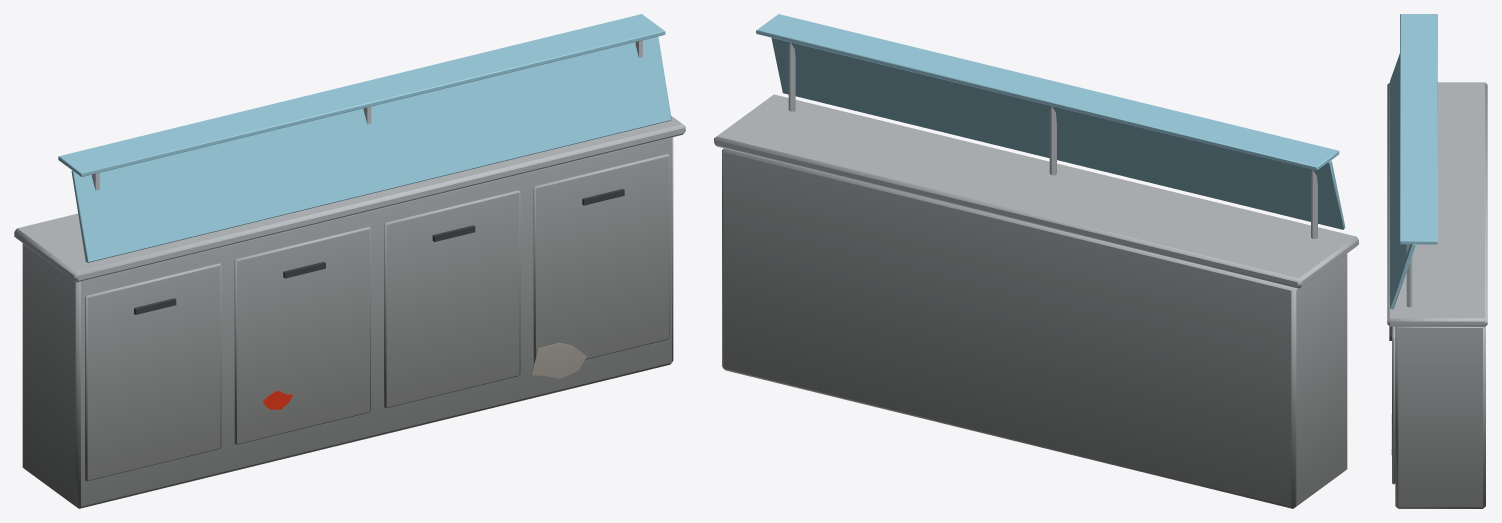
File: 67_comptoir_inox.fbx
3 views of the same model, side by side, from view 1: azimuth 30°, elevation 25°; view 2: azimuth 150°, elevation 25°; view 3: azimuth 270°, elevation 25° (orthographic). The views are drawn at different scales.
Parts seen in each view (by area): view 1: Comptoir, Vitre; view 2: Comptoir, Vitre; view 3: Comptoir, Vitre.
Part boxes in pixels (x1,y1,x2,y2): Comptoir: [14, 40, 685, 508]; Vitre: [58, 14, 671, 262]; Comptoir: [714, 42, 1358, 508]; Vitre: [756, 14, 1345, 229]; Comptoir: [1387, 82, 1487, 508]; Vitre: [1390, 14, 1437, 309].
Size of the model in its own units: 2.52 by 1.32 by 0.448.
Materials: 1 (1 with a texture image).
